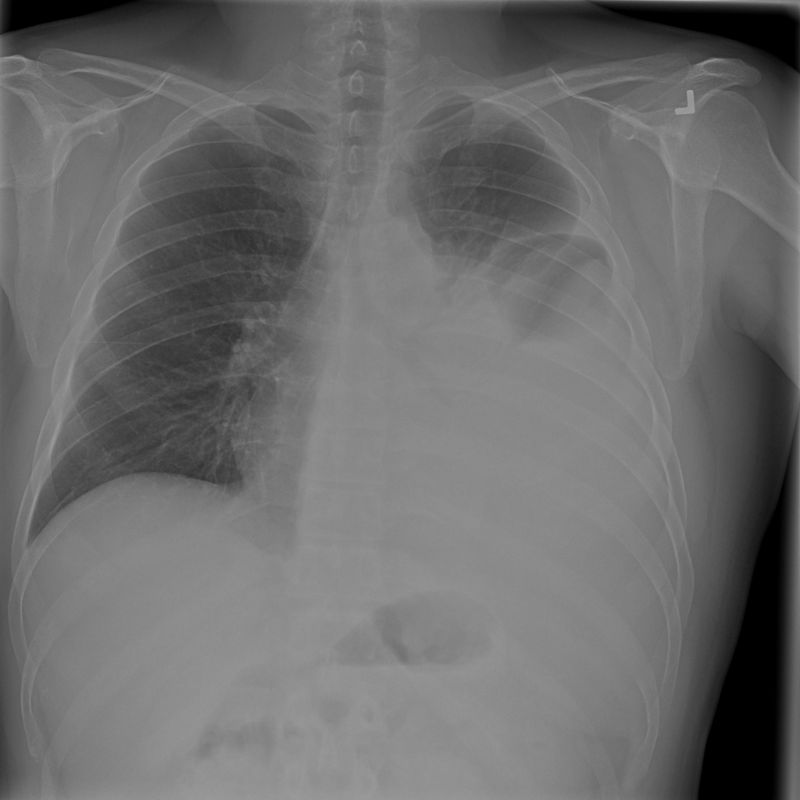Pleural Effusion: (452, 229, 675, 526)
